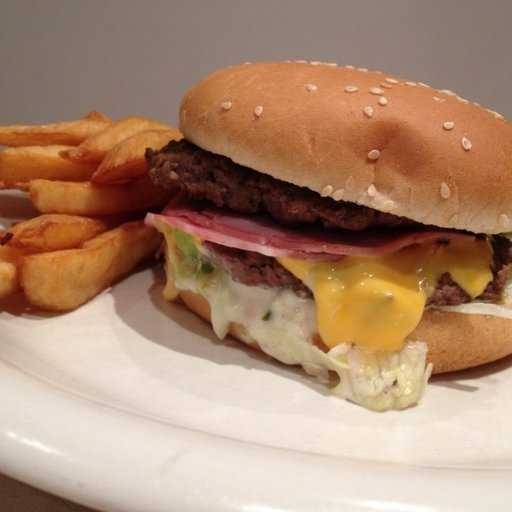hamburger: (182, 42, 512, 381)
